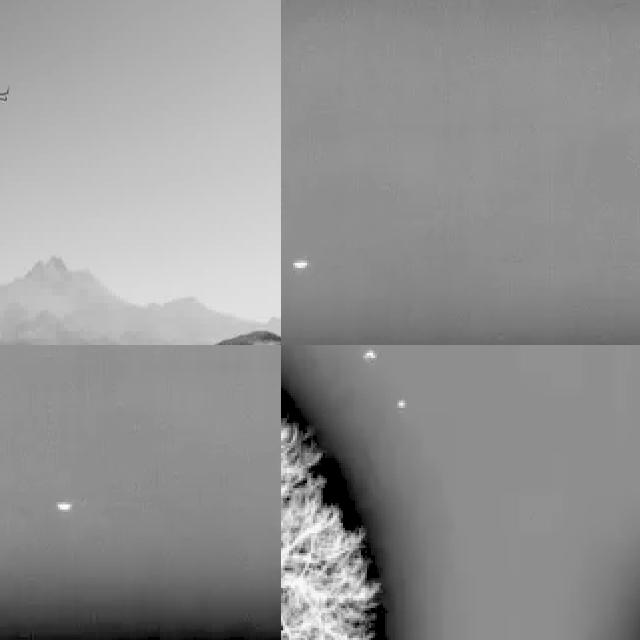0: (389, 393, 415, 421), (357, 345, 385, 370)
1: (285, 252, 321, 282), (53, 498, 83, 518)
drone: (0, 73, 11, 123)
